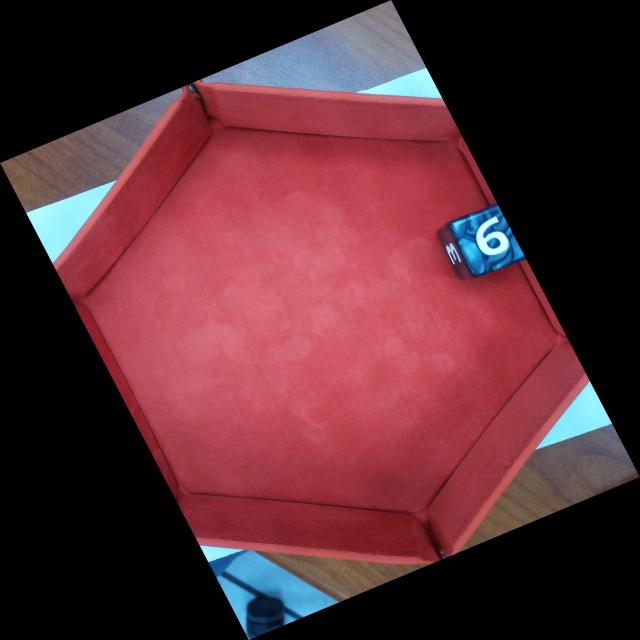dice: (444, 202, 526, 279)
